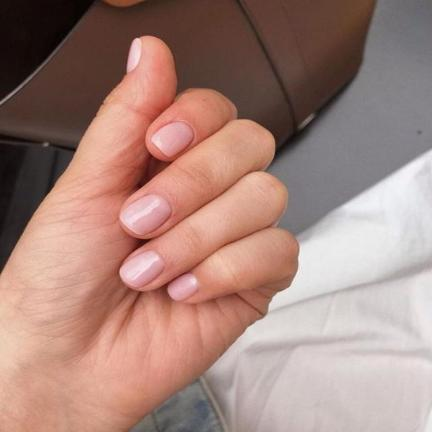Nail: (120, 194, 172, 235), (119, 249, 164, 288), (151, 122, 194, 158), (167, 273, 198, 301), (127, 37, 142, 74)
